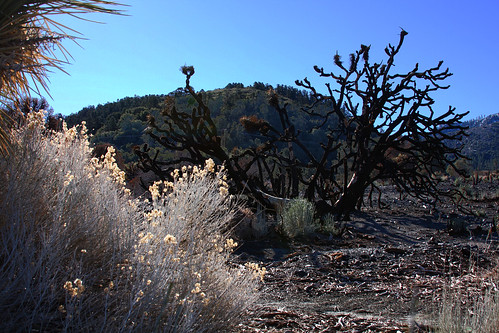mountain: (84, 81, 375, 174)
sky: (1, 1, 495, 109)
tree: (157, 62, 433, 234)
